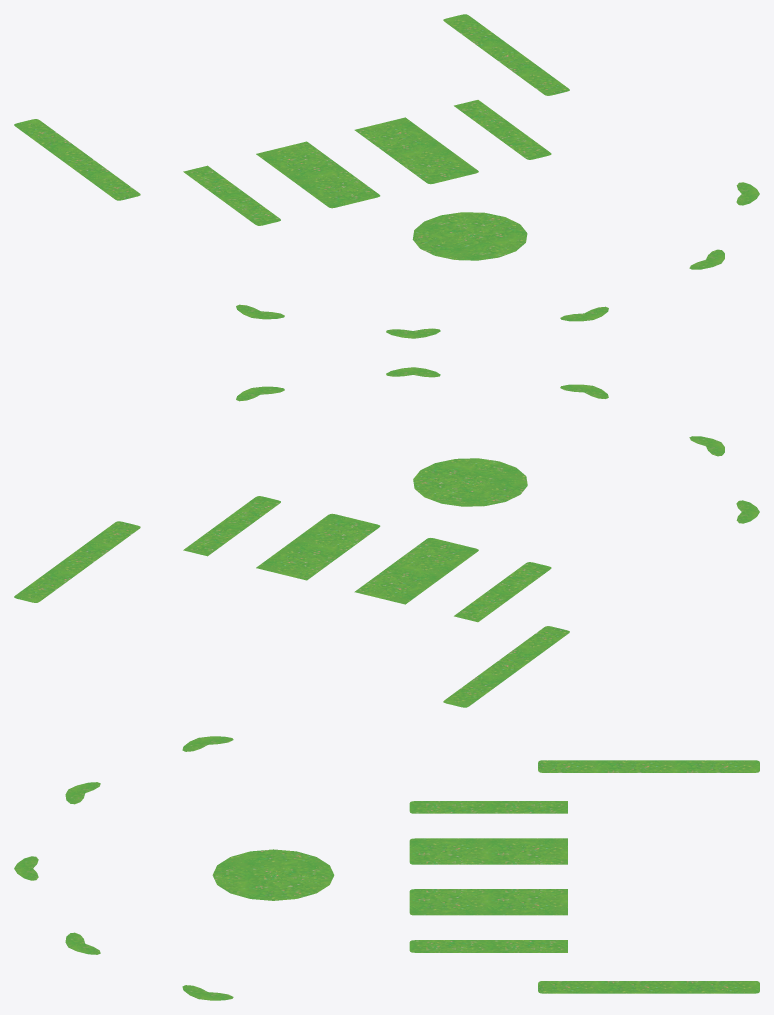
File: zhucheng_wangchengdizuo_3cao.FBX
3 renders of one model, top to bottom at view 1: azimuth 30°, elevation 25°; view 2: azimuth 150°, elevation 25°; view 3: azimuth 270°, elevation 25°, orthographic. The views are drawn at different scales.
Parts seen in each view (by area): view 1: zhucheng_wangchengdizuo_3cao; view 2: zhucheng_wangchengdizuo_3cao; view 3: zhucheng_wangchengdizuo_3cao.
Boxes of the visible parts, box(x1,y1,x2,y2) form: zhucheng_wangchengdizuo_3cao: box(14, 14, 759, 338); zhucheng_wangchengdizuo_3cao: box(14, 367, 759, 707); zhucheng_wangchengdizuo_3cao: box(14, 736, 759, 1000).
Bounding box in the file's own units: 3867 × 57.72 × 4616.
